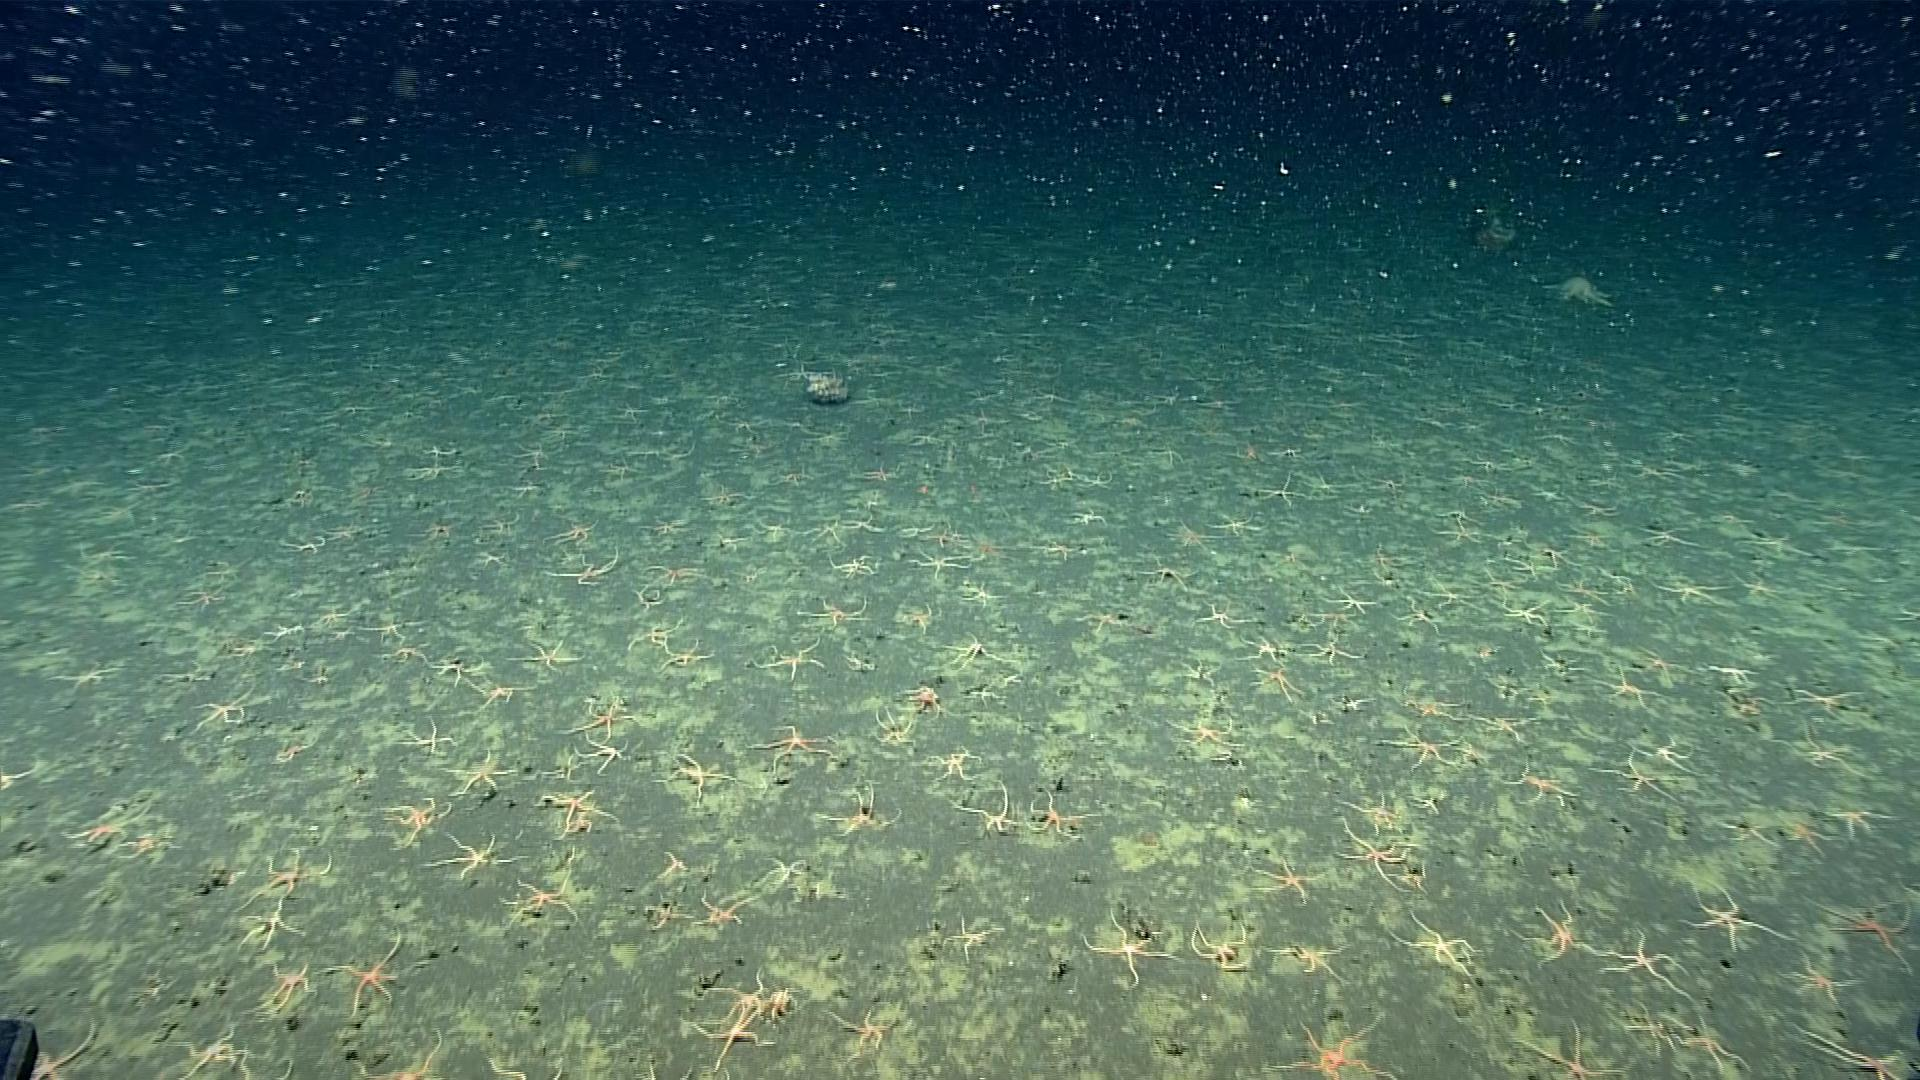brittle_sea_star: (1669, 881, 1792, 952), (1271, 1010, 1398, 1079), (1596, 931, 1712, 1005), (1807, 893, 1919, 963), (1080, 909, 1178, 988), (1387, 906, 1485, 982), (320, 928, 405, 1017), (1510, 897, 1611, 965), (1795, 1023, 1919, 1079), (1518, 1015, 1621, 1079), (1338, 814, 1415, 898), (680, 1006, 775, 1071), (235, 848, 332, 907), (1669, 1011, 1753, 1079), (1590, 749, 1692, 803), (704, 969, 799, 1025), (419, 833, 526, 880), (169, 1021, 249, 1079), (504, 865, 580, 924), (59, 802, 149, 852), (535, 786, 618, 840), (823, 785, 902, 841), (356, 1027, 443, 1079), (745, 724, 836, 773), (29, 1015, 98, 1079), (1776, 723, 1859, 774), (377, 794, 452, 851), (1780, 952, 1858, 1006), (653, 752, 738, 800), (233, 897, 309, 952), (501, 624, 578, 678), (1022, 785, 1096, 840), (947, 782, 1022, 836), (1374, 724, 1464, 769), (251, 959, 316, 1019), (554, 695, 634, 744), (1266, 935, 1353, 980), (442, 752, 521, 799), (1189, 914, 1253, 972), (1588, 662, 1662, 711), (1503, 761, 1576, 807), (189, 686, 256, 735), (753, 637, 828, 680), (939, 914, 1007, 961), (1337, 789, 1411, 832), (827, 1006, 898, 1051), (1394, 687, 1469, 729), (1621, 1000, 1676, 1056), (542, 546, 621, 585), (1167, 713, 1242, 753), (1249, 855, 1312, 901), (691, 889, 756, 931), (796, 597, 873, 632), (936, 630, 1002, 669), (574, 737, 633, 779), (394, 715, 454, 756), (1469, 709, 1539, 744), (55, 662, 123, 698), (1646, 735, 1702, 777), (1191, 597, 1259, 632), (361, 609, 427, 645), (909, 543, 980, 576), (1655, 576, 1735, 605), (1138, 555, 1200, 592), (1390, 596, 1444, 638), (1254, 469, 1309, 510), (1303, 633, 1366, 669), (1743, 530, 1815, 562), (1249, 662, 1307, 700), (637, 558, 713, 587), (618, 621, 687, 653), (1424, 578, 1485, 613), (464, 675, 529, 708), (752, 853, 814, 887), (1789, 684, 1865, 712), (655, 644, 717, 676), (930, 744, 981, 783), (539, 516, 603, 547), (425, 653, 483, 687), (1164, 518, 1218, 554), (1325, 584, 1381, 618), (824, 553, 887, 582), (178, 579, 229, 615), (1825, 807, 1898, 832), (868, 705, 915, 744), (642, 895, 691, 932), (1205, 506, 1261, 538), (305, 597, 355, 632), (397, 462, 465, 487), (1480, 560, 1524, 597), (1735, 572, 1792, 601), (1498, 596, 1551, 626), (636, 509, 688, 539), (1635, 522, 1697, 547), (1783, 819, 1829, 851), (1075, 607, 1130, 633), (1506, 553, 1559, 580), (376, 634, 423, 665), (509, 440, 554, 472), (1367, 550, 1407, 585), (117, 831, 164, 861), (798, 517, 844, 547), (956, 578, 1001, 608), (277, 531, 328, 558), (698, 484, 752, 509), (628, 580, 666, 615), (897, 600, 935, 634), (258, 617, 307, 644), (1245, 637, 1290, 665), (596, 455, 645, 480), (839, 510, 885, 537), (752, 514, 796, 541), (0, 757, 36, 789), (414, 517, 459, 542), (654, 848, 691, 878), (903, 683, 943, 711), (479, 513, 525, 537), (1569, 616, 1613, 641), (775, 460, 814, 487), (1067, 505, 1109, 529), (927, 524, 967, 549), (224, 637, 265, 659), (862, 459, 898, 484), (1564, 597, 1609, 617), (1038, 539, 1079, 560), (472, 547, 508, 570), (899, 521, 935, 541), (1573, 529, 1614, 546)
